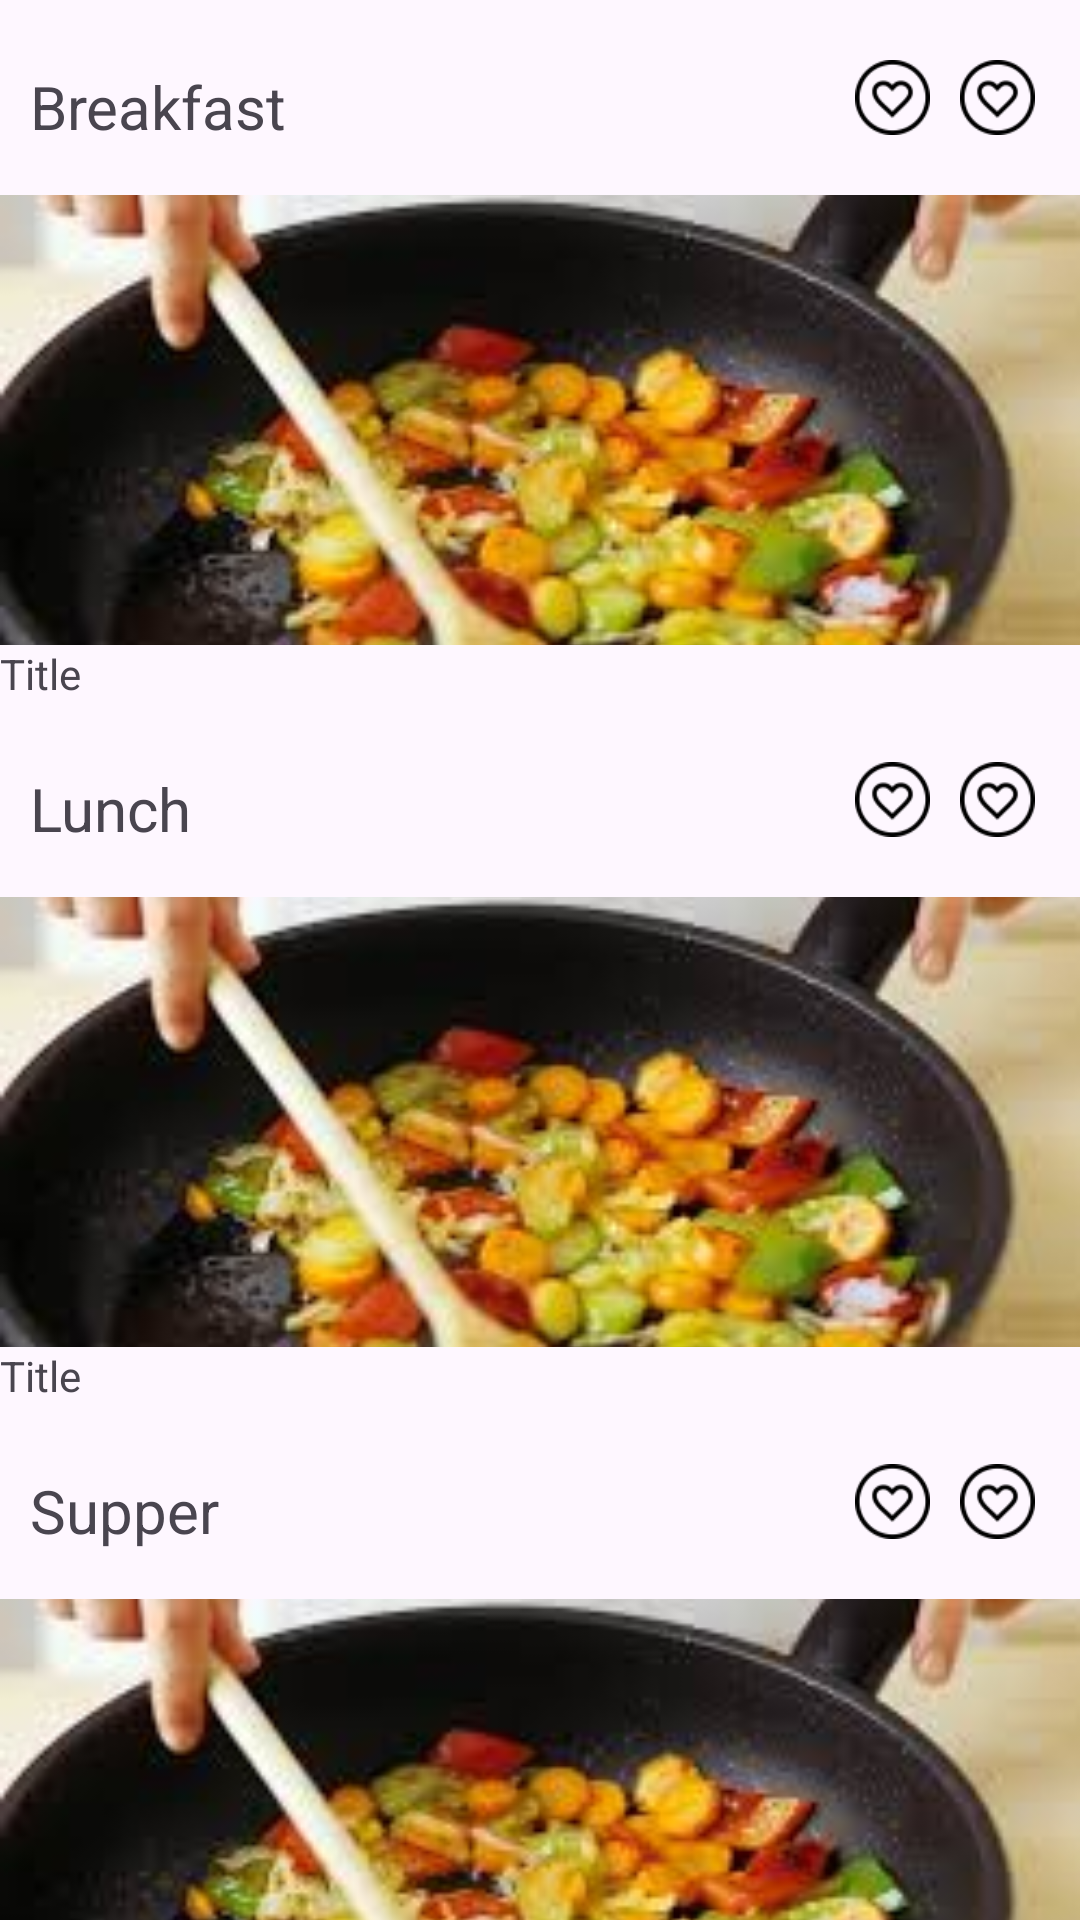

Where icons sit on this 1080 x 1920 app screen, as (x1, y1, x2, y2):
like heart: (855, 60, 930, 135), (960, 60, 1035, 135), (855, 762, 930, 837), (960, 762, 1035, 837), (855, 1464, 930, 1539), (960, 1464, 1035, 1539)
